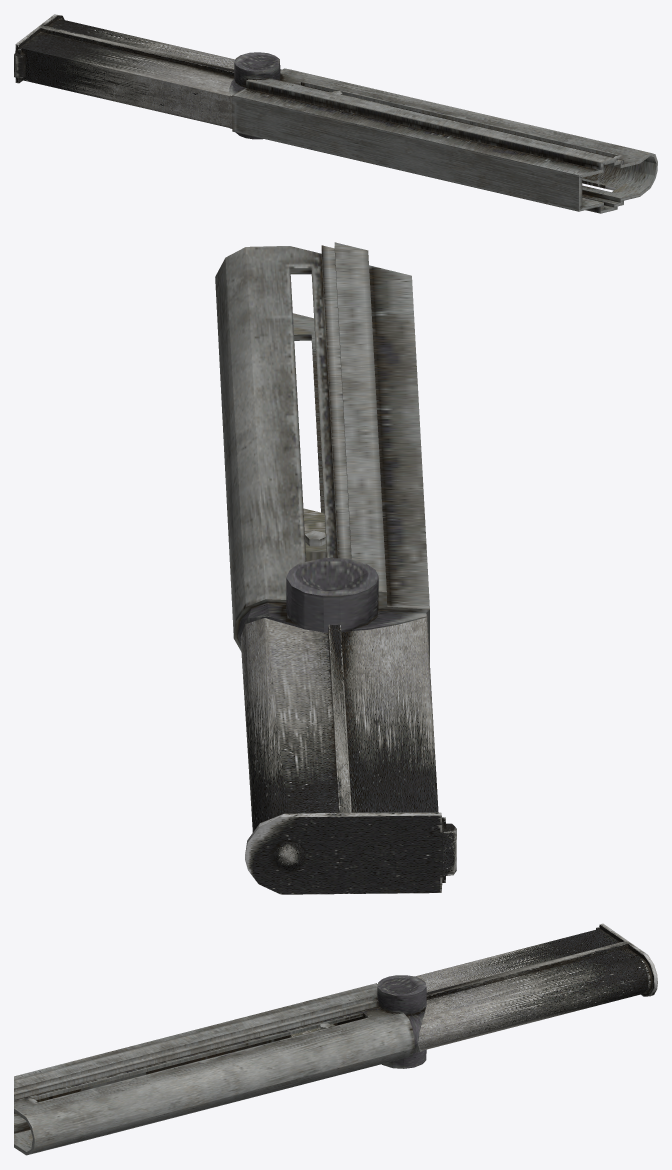
File: MagLugerExtLg_Ground.fbx
The picture shows the model from 3 angles, top to bottom: view 1: azimuth 30°, elevation 25°; view 2: azimuth 150°, elevation 25°; view 3: azimuth 270°, elevation 25°; orthographic projection. The views are drawn at different scales.
Visible parts, largest first — view 1: MagLugerExt; view 2: MagLugerExt; view 3: MagLugerExt.
Boxes of the visible parts, x1,y1,x2,y2 form: MagLugerExt: [14, 14, 657, 213]; MagLugerExt: [215, 242, 456, 894]; MagLugerExt: [14, 923, 657, 1155].
Size of the model in its own units: 0.1131 by 0.0192 by 0.1539.
